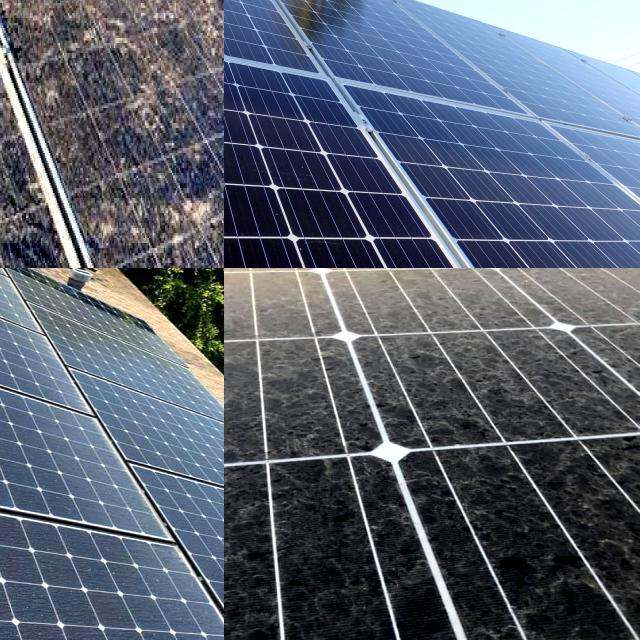bird: (0, 19, 46, 148), (84, 0, 141, 89), (117, 194, 197, 254), (0, 0, 89, 34), (0, 0, 41, 42), (0, 0, 32, 22), (0, 238, 18, 268)
crack: (224, 20, 581, 268), (329, 59, 640, 268), (224, 0, 557, 158), (380, 0, 640, 181)
dust: (405, 450, 640, 640), (224, 451, 389, 640), (420, 323, 640, 449), (224, 329, 387, 469), (0, 485, 130, 640), (0, 268, 126, 417), (29, 546, 205, 640), (0, 349, 108, 476), (358, 268, 614, 313), (369, 268, 640, 310), (15, 428, 143, 514), (224, 268, 359, 325), (224, 268, 336, 316), (0, 268, 97, 319), (224, 268, 433, 287)
